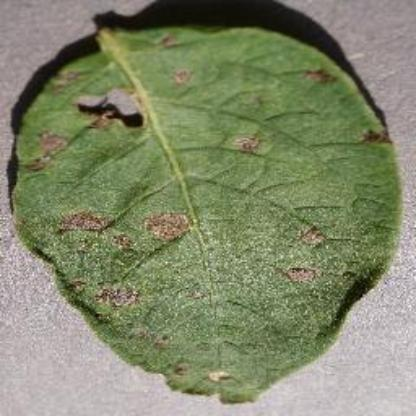Early-Blight: (12, 16, 402, 406)
